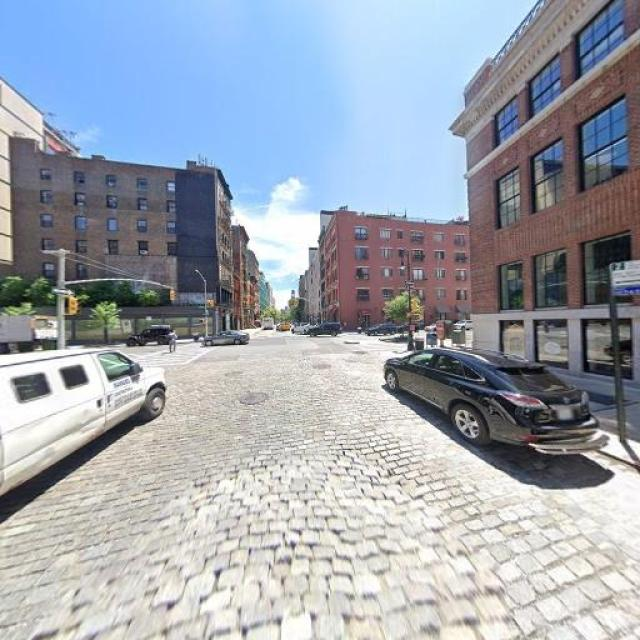Building: (472, 1, 640, 379), (220, 178, 233, 334), (327, 217, 336, 328)
